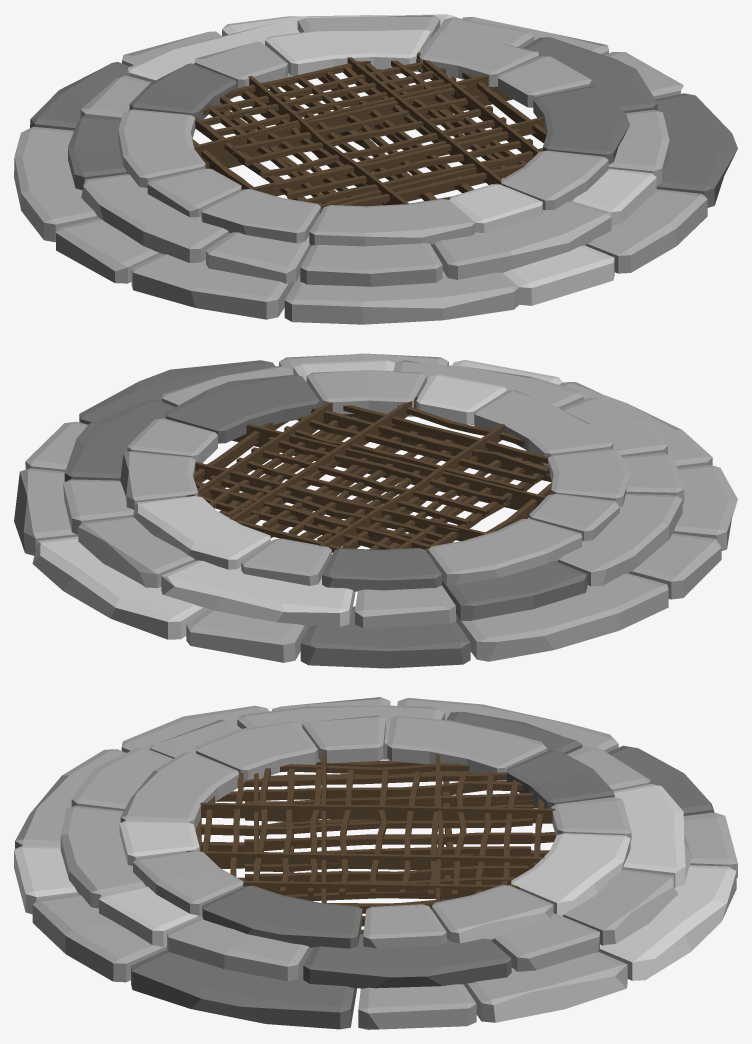
Rendered from Hatch.fbx.
The picture shows the model from 3 angles, top to bottom: view 1: azimuth 30°, elevation 25°; view 2: azimuth 150°, elevation 25°; view 3: azimuth 270°, elevation 25°; orthographic projection. The views are drawn at different scales.
Visible parts, largest first — view 1: Cube.055, Cube.051, Cube.054, Jail_Wall.002, Jail_Wall.001, Jail_Wall; view 2: Cube.055, Cube.051, Cube.054, Jail_Wall.002, Jail_Wall.001, Jail_Wall; view 3: Cube.055, Cube.051, Cube.054, Jail_Wall.002, Jail_Wall.001, Jail_Wall.
Part boxes in pixels (left/top/right/bottom): Cube.055: left=118, top=29, right=629, bottom=246; Cube.051: left=14, top=14, right=737, bottom=324; Cube.054: left=68, top=15, right=669, bottom=286; Jail_Wall.002: left=198, top=52, right=543, bottom=213; Jail_Wall.001: left=192, top=58, right=546, bottom=208; Jail_Wall: left=195, top=69, right=544, bottom=205; Cube.055: left=120, top=370, right=631, bottom=591; Cube.051: left=14, top=353, right=737, bottom=668; Cube.054: left=63, top=359, right=684, bottom=627; Jail_Wall.002: left=185, top=396, right=549, bottom=552; Jail_Wall.001: left=193, top=410, right=552, bottom=568; Jail_Wall: left=195, top=414, right=550, bottom=548; Cube.055: left=119, top=715, right=631, bottom=948; Cube.051: left=14, top=697, right=737, bottom=1029; Cube.054: left=60, top=705, right=691, bottom=988; Jail_Wall.002: left=186, top=768, right=555, bottom=899; Jail_Wall.001: left=244, top=754, right=533, bottom=911; Jail_Wall: left=195, top=760, right=555, bottom=933.
Size of the model in its own units: 280 by 21.11 by 271.
